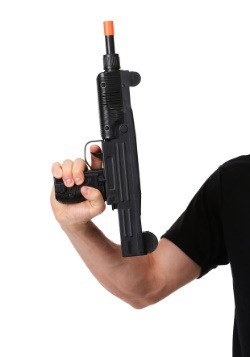Arma Falsa: (53, 19, 158, 258)
